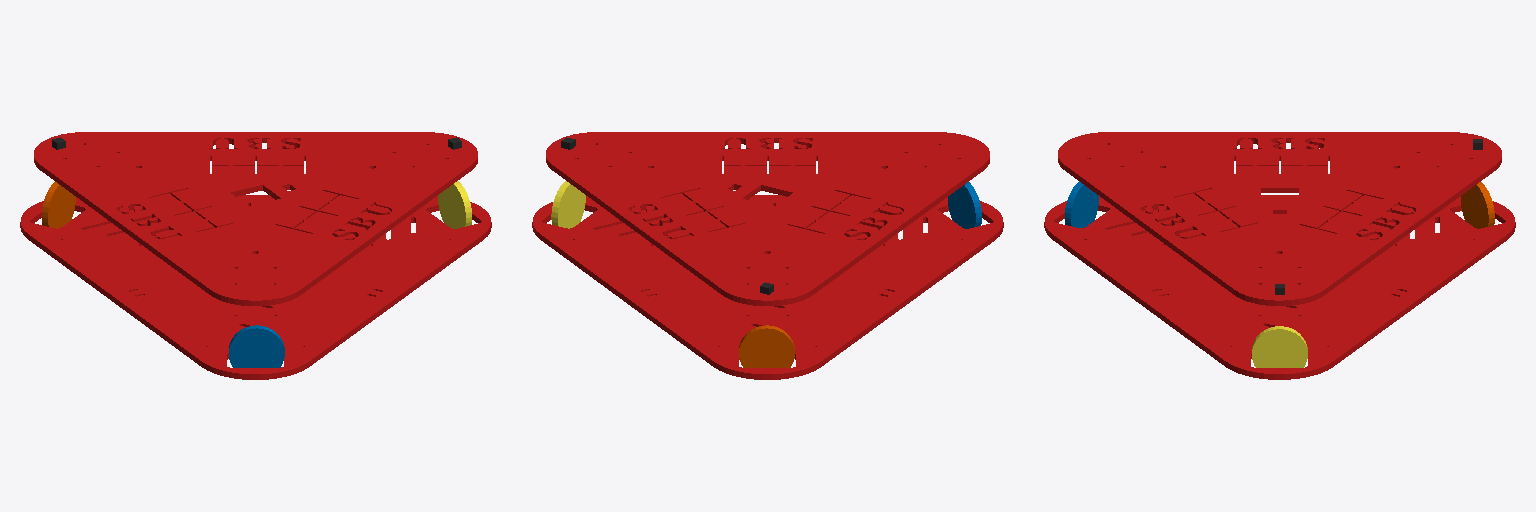
robot.urdf — robot:
<?xml version="1.0" ?>
<!-- =================================================================================== -->
<!-- |    This document was autogenerated by xacro from backup_my_model.xacro          | -->
<!-- |    EDITING THIS FILE BY HAND IS NOT RECOMMENDED                                 | -->
<!-- =================================================================================== -->
<robot name="robot">
  <material name="black">
    <color rgba="0.0 0.0 0.0 1.0"/>
  </material>
  <material name="blue">
    <color rgba="0.203125 0.23828125 0.28515625 1.0"/>
  </material>
  <material name="green">
    <color rgba="0.0 0.8 0.0 1.0"/>
  </material>
  <material name="grey">
    <color rgba="0.2 0.2 0.2 1.0"/>
  </material>
  <material name="orange">
    <color rgba="1.0 0.423529411765 0.0392156862745 1.0"/>
  </material>
  <material name="brown">
    <color rgba="0.870588235294 0.811764705882 0.764705882353 1.0"/>
  </material>
  <material name="red">
    <color rgba="0.80078125 0.12890625 0.1328125 1.0"/>
  </material>
  <material name="white">
    <color rgba="1.0 1.0 1.0 1.0"/>
  </material>
  <gazebo reference="link_chassis">
    <material>Gazebo/Orange</material>
  </gazebo>
  <gazebo reference="link_left_wheel">
    <material>Gazebo/Orange</material>
  </gazebo>
  <gazebo reference="link_right_wheel">
    <material>Gazebo/Orange</material>
  </gazebo>
  <gazebo reference="link_left2_wheel">
    <material>Gazebo/Orange</material>
  </gazebo>
  <gazebo reference="camera_link">
    <material>Gazebo/Blue</material>
  </gazebo>
  <gazebo reference="sonar_link">
    <material>Gazebo/Black</material>
  </gazebo>
  <gazebo>
    <plugin filename="libgazebo_ros_control.so" name="gazebo_ros_control">
      <robotNamespace>/robot</robotNamespace>
    </plugin>
  </gazebo>
  <gazebo>
    <plugin filename="libgazebo_ros_diff_drive.so" name="differential_drive_controller">
      <alwaysOn>true</alwaysOn>
      <updateRate>20</updateRate>
      <leftJoint>joint_left_wheel</leftJoint>
      <rightJoint>joint_right_wheel</rightJoint>
      <wheelSeparation>0.4</wheelSeparation>
      <wheelDiameter>0.2</wheelDiameter>
      <torque>0.1</torque>
      <commandTopic>cmd_vel</commandTopic>
      <odometryTopic>odom</odometryTopic>
      <odometryFrame>odom</odometryFrame>
      <robotBaseFrame>link_chassis</robotBaseFrame>
    </plugin>
  </gazebo>
  <gazebo reference="sensor_laser">
    <sensor name="head_hokuyo_sensor" type="ray">
      <pose>0 0 0 0 0 0</pose>
      <visualize>false</visualize>
      <update_rate>20</update_rate>
      <ray>
        <scan>
          <horizontal>
            <samples>720</samples>
            <resolution>1</resolution>
            <min_angle>-1.570796</min_angle>
            <max_angle>1.570796</max_angle>
          </horizontal>
        </scan>
        <range>
          <min>0.10</min>
          <max>10.0</max>
          <resolution>0.01</resolution>
        </range>
        <noise>
          <type>gaussian</type>
          <mean>0.0</mean>
          <stddev>0.01</stddev>
        </noise>
      </ray>
      <plugin filename="libgazebo_ros_laser.so" name="gazebo_ros_head_hokuyo_controller">
        <topicName>/m2wr/laser/scan</topicName>
        <frameName>sensor_laser</frameName>
      </plugin>
    </sensor>
  </gazebo>
  <link name="base_link">
    <inertial>
      <mass value="20"/>
      <origin rpy="0 0 3.14" xyz="0 0 0.52"/>
      <inertia ixx="1.392949" ixy="0" ixz="-0.000108" iyy="1.392846" iyz="-0.000000" izz="-1.000000"/>
    </inertial>
    <visual>
      <origin rpy="0 0 3.14" xyz="0 0 0.52"/>
      <geometry>
        <mesh filename="package://rob_pkg/meshes/two_plate.dae "/>
      </geometry>
      <material name="red"/>
    </visual>
    <collision>
      <origin rpy="0 0 3.14" xyz="0 0 0.52"/>
      <geometry>
        <mesh filename="package://rob_pkg/meshes/two_plate.dae"/>
      </geometry>
    </collision>
  </link>
  <link name="camera_link">
    <collision>
      <origin rpy="0 0 0" xyz="0 0 0.43"/>
      <geometry>
        <box size=".1 .1 .1"/>
      </geometry>
    </collision>
    <visual>
      <origin rpy="0 0 0" xyz="0 0 0.43"/>
      <geometry>
        <box size=".1 .1 .1"/>
      </geometry>
      <material name="grey">
        <color rgba="0.2 0.2 0.2 1.0"/>
      </material>
    </visual>
    <inertial>
      <mass value="0.001"/>
      <inertia ixx="1.6666666666666669e-06" ixy="0.0" ixz="0.0" iyy="1.6666666666666669e-06" iyz="0.0" izz="1.6666666666666669e-06"/>
    </inertial>
  </link>
  <joint name="camera_joint" type="fixed">
    <parent link="base_link"/>
    <child link="camera_link"/>
    <origin rpy="0 0 0" xyz="2.195 0 0.5"/>
    <axis xyz="1 0 0"/>
  </joint>
  <gazebo reference="camera_link">
    <sensor name="camera_camera_sensor" type="camera">
      <update_rate>30.0</update_rate>
      <camera>
        <pose>0.035 0 0.078 0 0 0</pose>
        <horizontal_fov>1.4835298641951802</horizontal_fov>
        <image>
          <format>R8G8B8</format>
          <width>1020</width>
          <height>1020</height>
        </image>
        <clip>
          <near>0.01</near>
          <far>100</far>
        </clip>
      </camera>
      <plugin filename="libgazebo_ros_camera.so" name="camera_camera_controller">
        <alwaysOn>true</alwaysOn>
        <updateRate>0.0</updateRate>
        <cameraName>robot_sensor/camera</cameraName>
        <imageTopicName>image_raw</imageTopicName>
        <cameraInfoTopicName>camera_info</cameraInfoTopicName>
        <frameName>camera_link</frameName>
        <hackBaseline>0.07</hackBaseline>
        <distortionK1>0.0</distortionK1>
        <distortionK2>0.0</distortionK2>
        <distortionK3>0.0</distortionK3>
        <distortionT1>0.0</distortionT1>
        <distortionT2>0.0</distortionT2>
      </plugin>
    </sensor>
  </gazebo>
  <link name="sonar_link">
    <collision>
      <origin rpy="0 0 0" xyz="0 0 0.43"/>
      <geometry>
        <box size=".1 .1 .1"/>
      </geometry>
    </collision>
    <visual>
      <origin rpy="0 0 0" xyz="0 0 0.43"/>
      <geometry>
        <box size=".1 .1 .1"/>
      </geometry>
      <material name="grey">
        <color rgba="0.2 0.2 0.2 1.0"/>
      </material>
    </visual>
    <inertial>
      <mass value="0.001"/>
      <inertia ixx="1.6666666666666669e-06" ixy="0.0" ixz="0.0" iyy="1.6666666666666669e-06" iyz="0.0" izz="1.6666666666666669e-06"/>
    </inertial>
  </link>
  <joint name="sonar_joint" type="fixed">
    <parent link="base_link"/>
    <child link="sonar_link"/>
    <origin rpy="0 0 0" xyz="-1.10000 1.9 0.5"/>
    <axis xyz="1 0 0"/>
  </joint>
  <gazebo reference="sonar_link">
    <sensor name="sonar" type="ray">
      <pose>0.25 0 0 0 0 0</pose>
      <update_rate>5</update_rate>
      <ray>
        <scan>
          <horizontal>
            <samples>5</samples>
            <resolution>1.0</resolution>
            <min_angle>-0.25</min_angle>
            <max_angle>0.25</max_angle>
          </horizontal>
          <vertical>
            <samples>5</samples>
            <resolution>1</resolution>
            <min_angle>-0.25</min_angle>
            <max_angle>0.25</max_angle>
          </vertical>
        </scan>
        <range>
          <min>0.01</min>
          <max>0.75</max>
          <resolution>0.01</resolution>
        </range>
      </ray>
      <plugin filename="libgazebo_ros_range.so" name="gazebo_ros_range">
        <gaussianNoise>0.005</gaussianNoise>
        <alwaysOn>true</alwaysOn>
        <updateRate>5</updateRate>
        <topicName>sonar</topicName>
        <frameName>sonar_link</frameName>
        <fov>0.5</fov>
        <radiation>ultrasound</radiation>
      </plugin>
    </sensor>
  </gazebo>
  <link name="link_right_wheel">
    <mass value="1"/>
    <origin rpy="0 1.570700 0" xyz="2.195 0 0.27"/>
    <collision name="link_right_wheel_collision">
      <geometry>
        <cylinder length=".07" radius=".27"/>
      </geometry>
    </collision>
    <visual name="link_right_wheel_visual">
      <geometry>
        <cylinder length="0.07" radius="0.27"/>
      </geometry>
    </visual>
    <inertial>
      <mass value="1"/>
      <inertia ixx="0.018633333333333335" ixy="0" ixz="0" iyy="0.018633333333333335" iyz="0" izz="0.03645"/>
    </inertial>
  </link>
  <joint name="joint_right_wheel" type="continuous">
    <origin rpy="0 1.570700 0" xyz="2.195 0 0.27"/>
    <child link="link_right_wheel"/>
    <parent link="base_link"/>
    <axis rpy="0 0 0" xyz="0 0 1"/>
  </joint>
  <!-- Rear wheels transmission -->
  <transmission name="transmission_right_wheel">
    <type>transmission_interface/SimpleTransmission</type>
    <joint name="joint_right_wheel">
      <hardwareInterface>hardware_interface/EffortJointInterface</hardwareInterface>
    </joint>
    <actuator name="motor_right_wheel">
      <hardwareInterface>hardware_interface/EffortJointInterface</hardwareInterface>
      <mechanicalReduction>1</mechanicalReduction>
    </actuator>
  </transmission>
  <link name="link_left_wheel">
    <mass value="1"/>
    <origin rpy="0 1.570700 1.0472" xyz="-1.10000 -1.9 0.27"/>
    <collision name="link_left_wheel_collision">
      <geometry>
        <cylinder length=".07" radius=".27"/>
      </geometry>
    </collision>
    <visual name="link_left_wheel_visual">
      <geometry>
        <cylinder length="0.07" radius="0.27"/>
      </geometry>
    </visual>
    <inertial>
      <mass value="1"/>
      <inertia ixx="0.018633333333333335" ixy="0" ixz="0" iyy="0.018633333333333335" iyz="0" izz="0.03645"/>
    </inertial>
  </link>
  <joint name="joint_left_wheel" type="continuous">
    <origin rpy="0 1.570700 1.0472" xyz="-1.10000 -1.9 0.27"/>
    <child link="link_left_wheel"/>
    <parent link="base_link"/>
    <axis rpy="0 0 0" xyz="0 0 1"/>
  </joint>
  <!-- Rear wheels transmission -->
  <transmission name="transmission_left_wheel">
    <type>transmission_interface/SimpleTransmission</type>
    <joint name="joint_left_wheel">
      <hardwareInterface>hardware_interface/EffortJointInterface</hardwareInterface>
    </joint>
    <actuator name="motor_left_wheel">
      <hardwareInterface>hardware_interface/EffortJointInterface</hardwareInterface>
      <mechanicalReduction>1</mechanicalReduction>
    </actuator>
  </transmission>
  <link name="link_left2_wheel">
    <mass value="1"/>
    <origin rpy="0 1.570700 2.0944" xyz="-1.10000 1.9 0.27"/>
    <collision name="link_left2_wheel_collision">
      <geometry>
        <cylinder length=".07" radius=".27"/>
      </geometry>
    </collision>
    <visual name="link_left2_wheel_visual">
      <geometry>
        <cylinder length="0.07" radius="0.27"/>
      </geometry>
    </visual>
    <inertial>
      <mass value="1"/>
      <inertia ixx="0.018633333333333335" ixy="0" ixz="0" iyy="0.018633333333333335" iyz="0" izz="0.03645"/>
    </inertial>
  </link>
  <joint name="joint_left2_wheel" type="continuous">
    <origin rpy="0 1.570700 2.0944" xyz="-1.10000 1.9 0.27"/>
    <child link="link_left2_wheel"/>
    <parent link="base_link"/>
    <axis rpy="0 0 0" xyz="0 0 1"/>
  </joint>
  <!-- Rear wheels transmission -->
  <transmission name="transmission_left2_wheel">
    <type>transmission_interface/SimpleTransmission</type>
    <joint name="joint_left2_wheel">
      <hardwareInterface>hardware_interface/EffortJointInterface</hardwareInterface>
    </joint>
    <actuator name="motor_left2_wheel">
      <hardwareInterface>hardware_interface/EffortJointInterface</hardwareInterface>
      <mechanicalReduction>1</mechanicalReduction>
    </actuator>
  </transmission>
</robot>

--- Facts derived from the render (not from the file) ---
3 views of the same robot in one strip: view 1: azimuth 30°, elevation 25°; view 2: azimuth 150°, elevation 25°; view 3: azimuth 270°, elevation 25° (orthographic).
Model robot with 6 links and 5 joints (3 continuous, 2 fixed), rooted at base_link, posed every joint at zero.
Links seen in each view (by area): view 1: base_link, link_left_wheel, link_right_wheel, link_left2_wheel; view 2: base_link, link_left2_wheel, link_right_wheel, link_left_wheel; view 3: base_link, link_right_wheel, link_left2_wheel, link_left_wheel.
Boxes of the visible links, x1,y1,x2,y2 form: base_link: (20, 132, 491, 379); link_left_wheel: (229, 325, 284, 367); link_right_wheel: (438, 181, 471, 228); link_left2_wheel: (42, 182, 75, 228); base_link: (532, 132, 1003, 379); link_left2_wheel: (739, 325, 794, 367); link_right_wheel: (551, 181, 585, 228); link_left_wheel: (948, 182, 981, 228); base_link: (1044, 132, 1515, 379); link_right_wheel: (1252, 326, 1307, 367); link_left2_wheel: (1461, 182, 1494, 228); link_left_wheel: (1065, 181, 1098, 227).
Size in the robot's own frame: 4.08 by 4.52 by 0.98 metres.
Meshes: 1 distinct files referenced, 1 mesh visuals loaded (1 Collada DAE).
